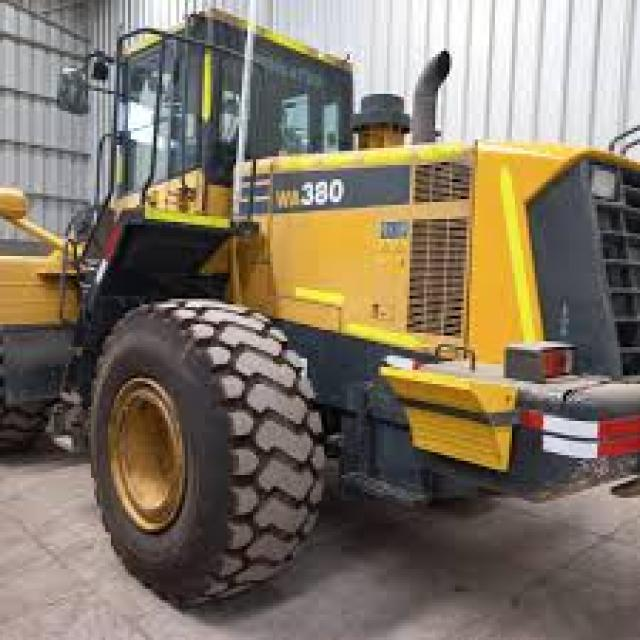buldozerpayloadergrader: (4, 6, 640, 606)
